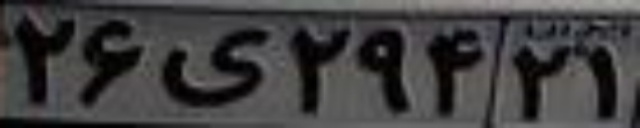1: (586, 45, 619, 120)
2: (12, 16, 75, 103), (287, 28, 348, 114), (514, 43, 570, 122)
4: (424, 29, 483, 117)
6: (81, 17, 143, 104)
9: (357, 27, 410, 113)
ye: (158, 27, 274, 109)
